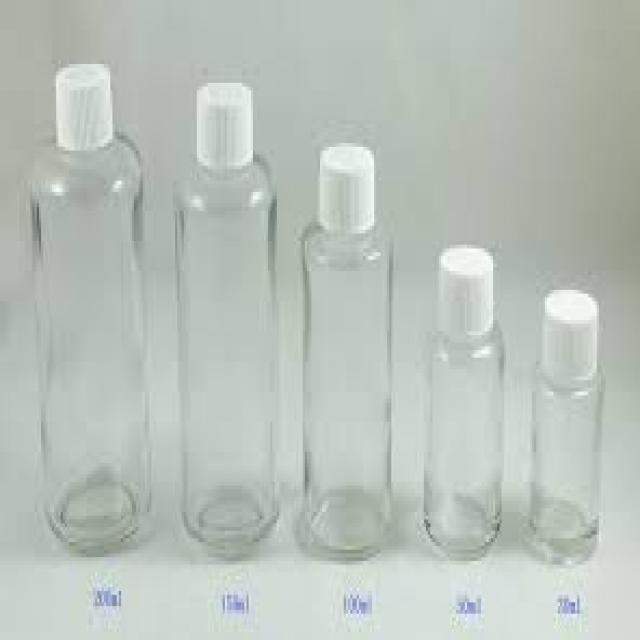Glass-Non-Biodegradable but Recyclable-: (31, 74, 151, 559), (300, 160, 394, 564), (421, 262, 508, 559)
